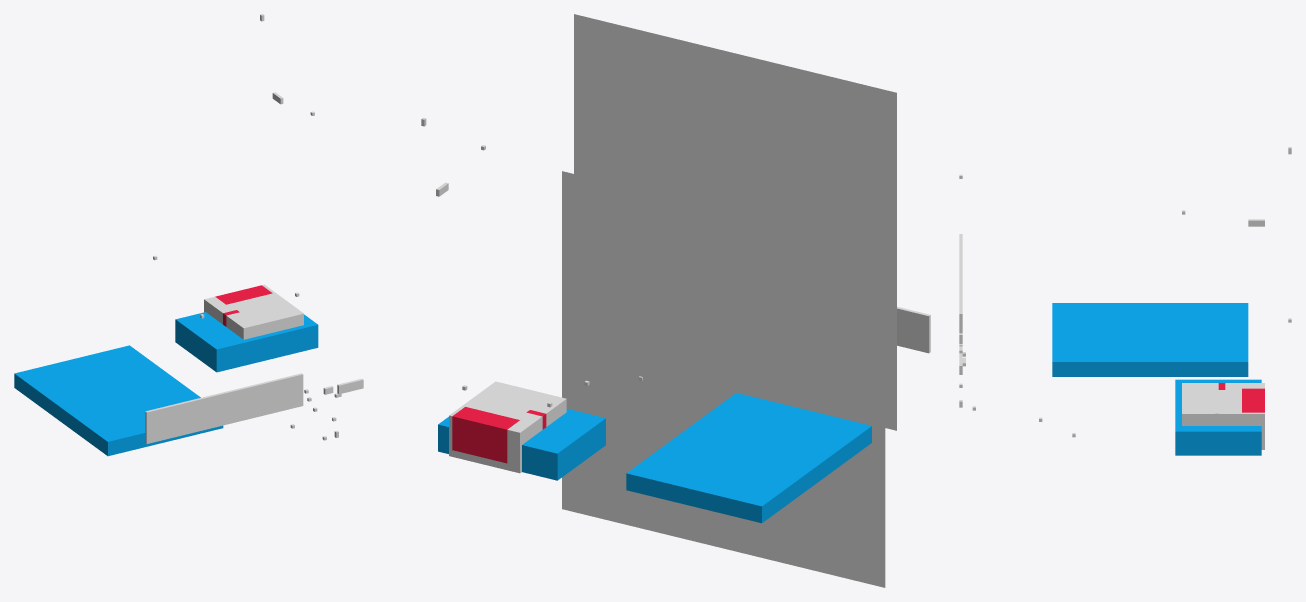
File: glbTest 1.glb
3 renders of one model, left to right at view 1: azimuth 30°, elevation 25°; view 2: azimuth 150°, elevation 25°; view 3: azimuth 270°, elevation 25°, orthographic. The views are drawn at different scales.
Parts seen in each view (by area): view 1: VoxelObject(Clone); view 2: Quad (×2), VoxelObject(Clone); view 3: VoxelObject(Clone).
Boxes of the visible parts, x1,y1,x2,y2 form: VoxelObject(Clone): (14,14,363,456); Quad (×2): (562,14,896,587); VoxelObject(Clone): (421,117,930,523); VoxelObject(Clone): (959,147,1291,455).
Bounding box in the file's own units: 4 × 5.84 × 4.
3 materials, 1 textured.
